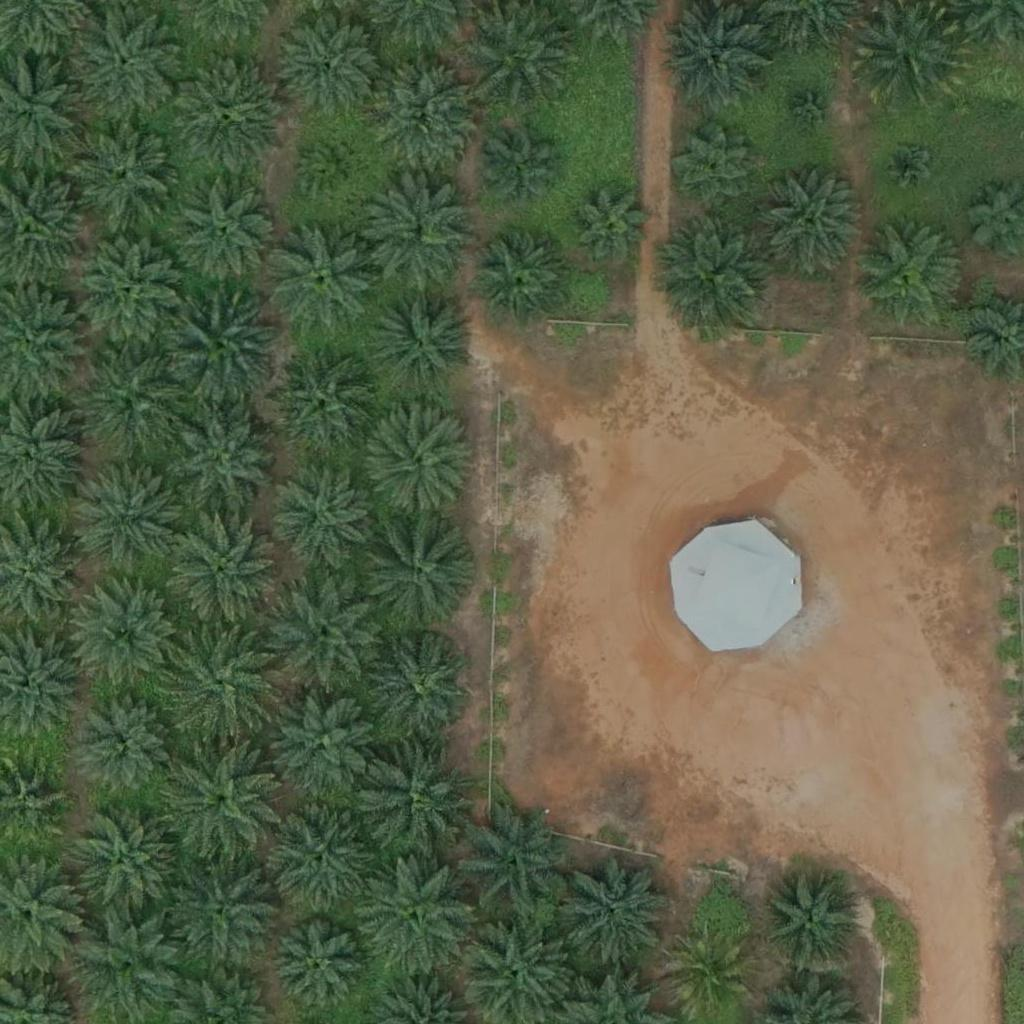Kelapa_Sawit: (368, 56, 481, 170), (73, 345, 186, 459), (74, 460, 187, 574), (562, 856, 675, 970), (460, 807, 573, 921), (661, 5, 774, 118), (70, 579, 183, 692), (266, 223, 379, 336), (263, 345, 376, 458), (362, 180, 475, 293), (366, 284, 479, 397), (366, 407, 479, 520), (361, 519, 474, 632), (661, 218, 774, 331), (165, 746, 278, 859), (164, 851, 277, 964), (67, 800, 180, 913), (75, 235, 187, 349), (167, 400, 279, 514), (166, 517, 278, 631), (269, 578, 381, 692), (853, 218, 965, 332), (363, 746, 475, 860), (172, 61, 284, 174), (75, 8, 187, 121), (69, 117, 181, 230), (167, 293, 279, 406), (161, 626, 273, 739), (754, 168, 866, 281), (360, 860, 472, 973), (264, 805, 376, 918), (73, 907, 185, 1020), (266, 690, 378, 803), (177, 182, 277, 283), (759, 871, 859, 972), (282, 14, 382, 114), (272, 465, 372, 565), (371, 638, 471, 738), (477, 236, 565, 325), (665, 934, 753, 1022), (673, 126, 760, 214), (273, 924, 360, 1012), (82, 700, 169, 788), (486, 136, 561, 212), (572, 187, 647, 262), (303, 139, 365, 202), (788, 84, 838, 135), (882, 140, 932, 191)
